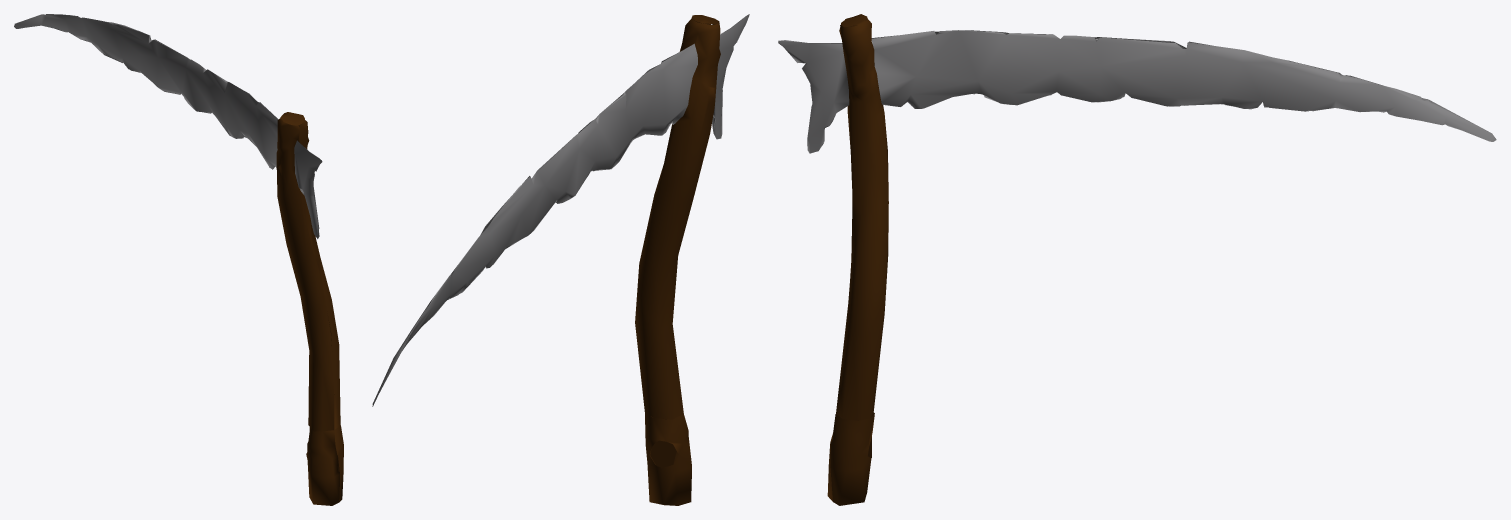
The model's file is Scythe.fbx.
3 views of the same model, side by side, from view 1: azimuth 30°, elevation 25°; view 2: azimuth 150°, elevation 25°; view 3: azimuth 270°, elevation 25° (orthographic). The views are drawn at different scales.
Visible parts, largest first — view 1: RetopoGroup1.001; view 2: RetopoGroup1.001; view 3: RetopoGroup1.001.
Part boxes in pixels (<box>): RetopoGroup1.001: <box>14,14,343,505</box>; RetopoGroup1.001: <box>372,14,749,505</box>; RetopoGroup1.001: <box>778,14,1496,505</box>.
Bounding box in the file's own units: 33.41 × 201 × 282.
